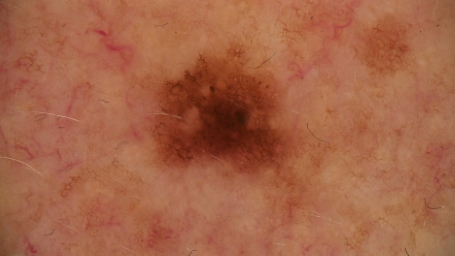nevus: (157, 57, 285, 170)
